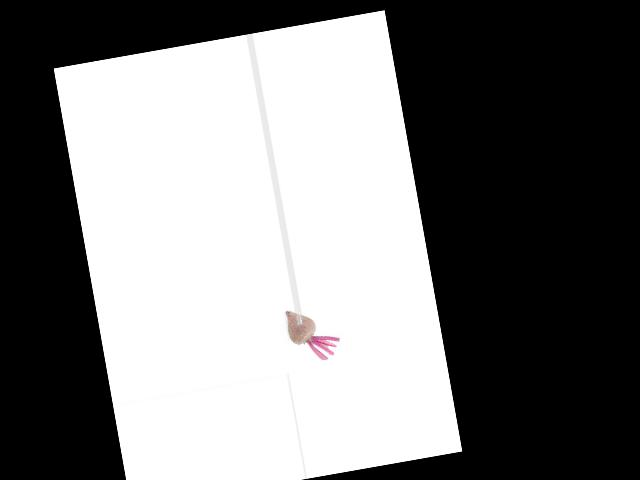beet: (284, 302, 342, 365)
